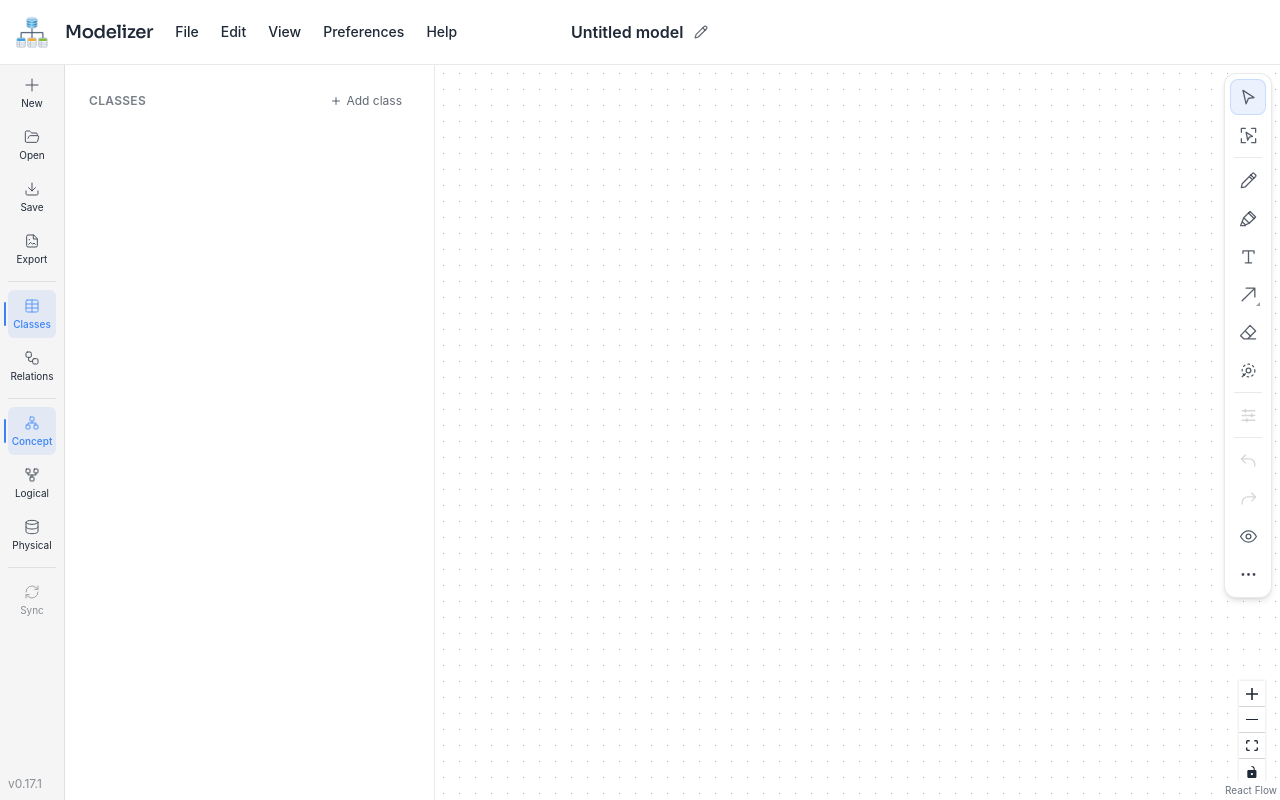
Scenario: annotation editor integration › surfaces export errors and ignores a preview completed after closing it
What coordinates should you click on to do the following:
click the button named "More annotation actions"
I would click on:
 (1248, 574)
Its box is x1=1230 y1=556 x2=1266 y2=592.
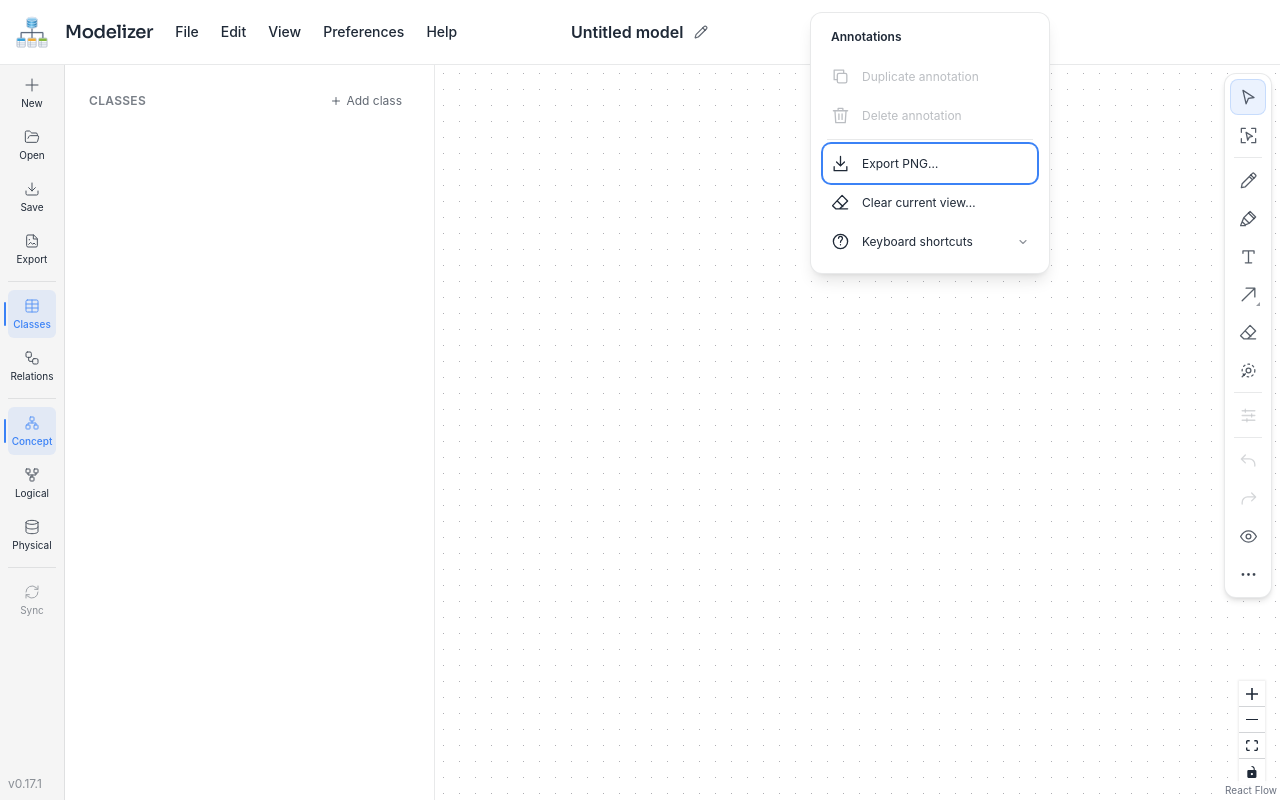
What coordinates should you click on to do the following:
click the button "Export PNG…"
I would click on:
 (930, 164)
Its box is x1=823 y1=144 x2=1037 y2=183.
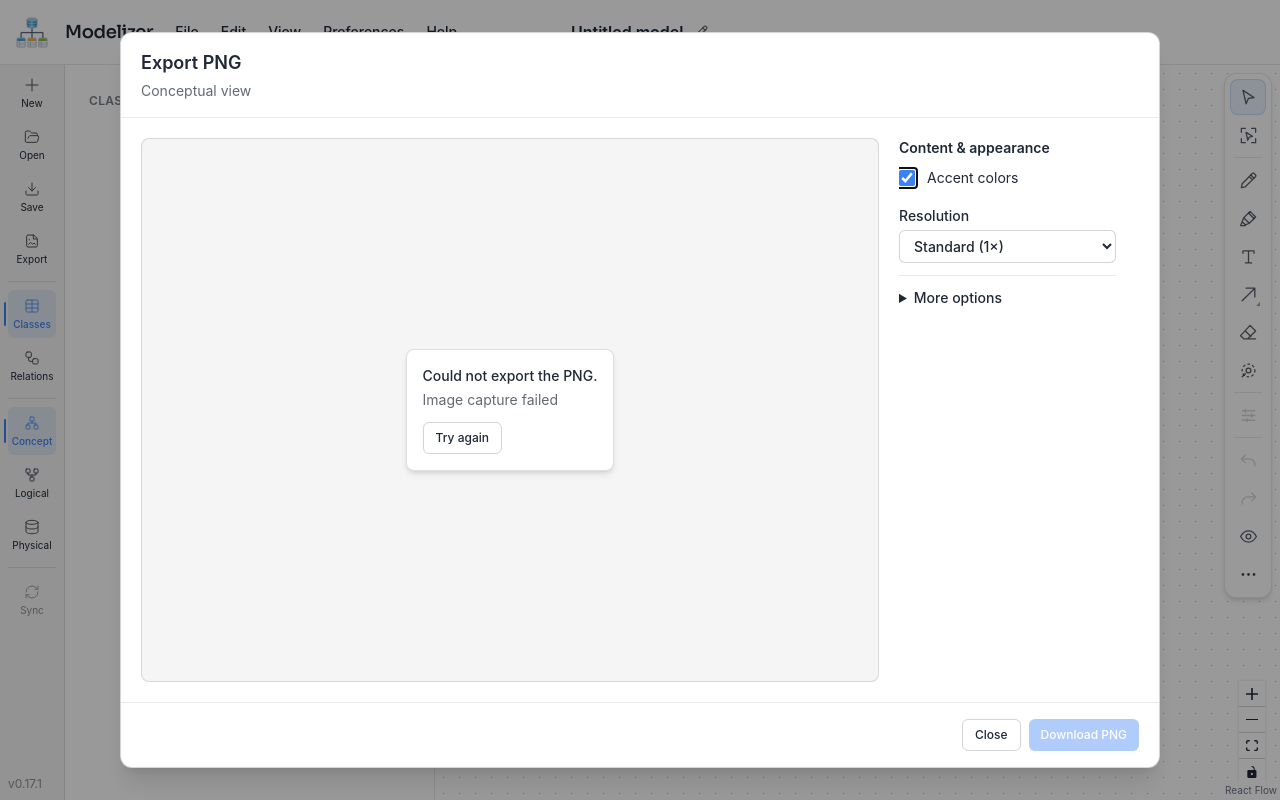
Result: the message shows "Image capture failed" at x1=423 y1=391 x2=558 y2=408
What coordinates should you click on to do the following:
click the button "Close"
I would click on:
 (991, 735)
Its box is x1=962 y1=719 x2=1021 y2=751.
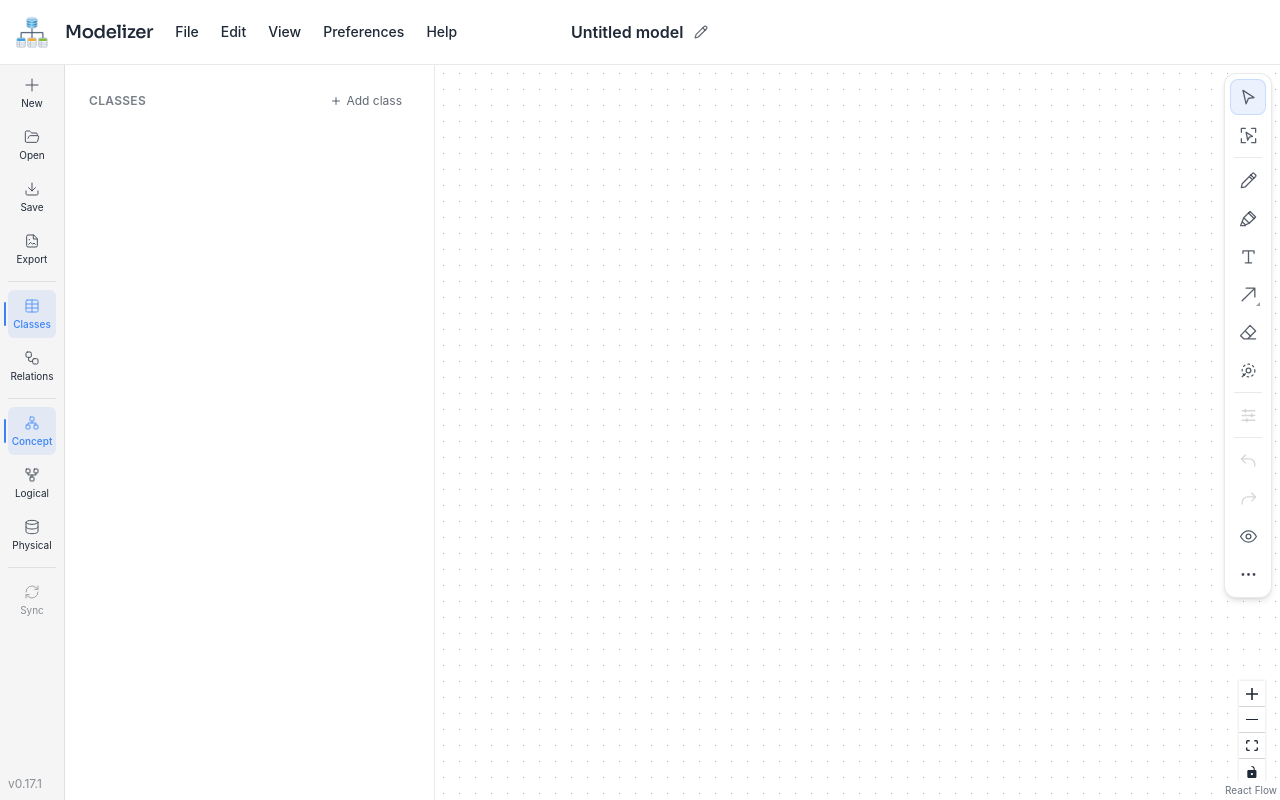
What coordinates should you click on to do the following:
click the button named "More annotation actions"
I would click on:
 (1248, 574)
Its box is x1=1230 y1=556 x2=1266 y2=592.
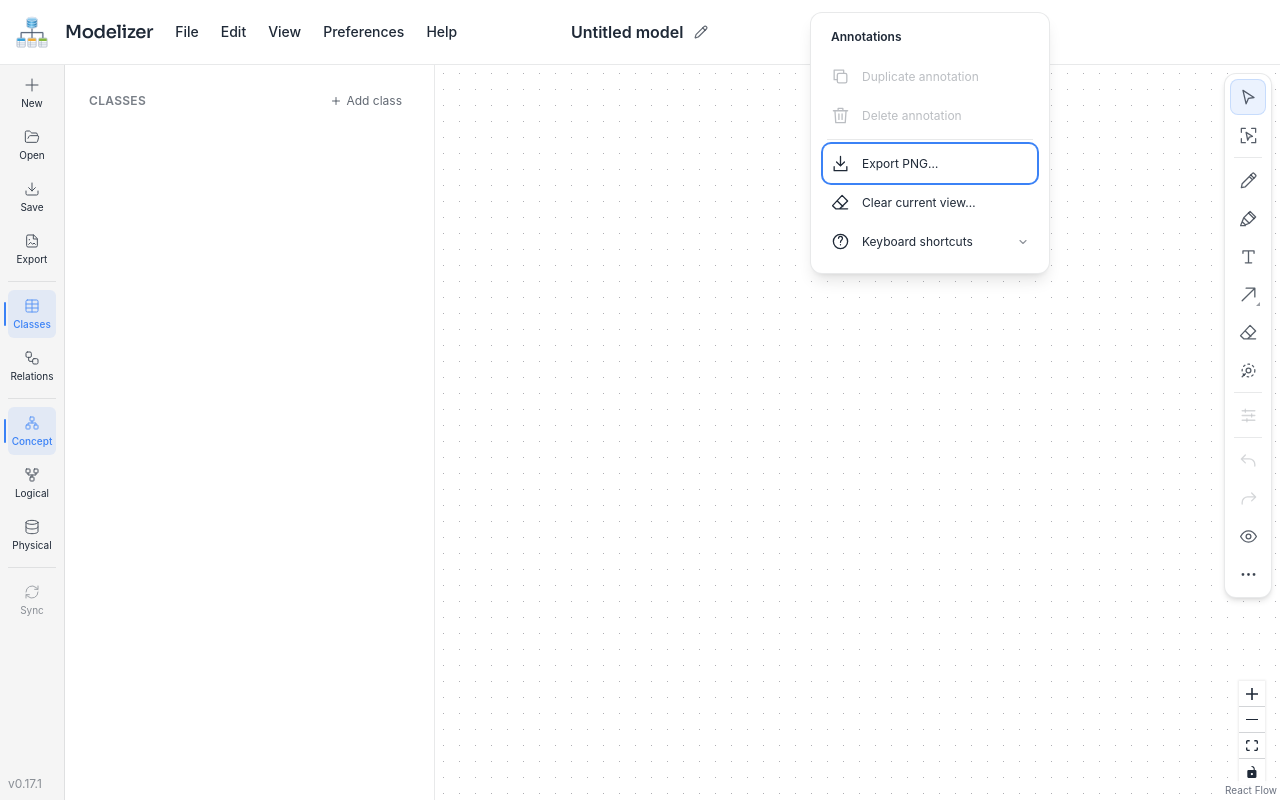
What coordinates should you click on to do the following:
click the button "Export PNG…"
I would click on:
 (930, 164)
Its box is x1=823 y1=144 x2=1037 y2=183.
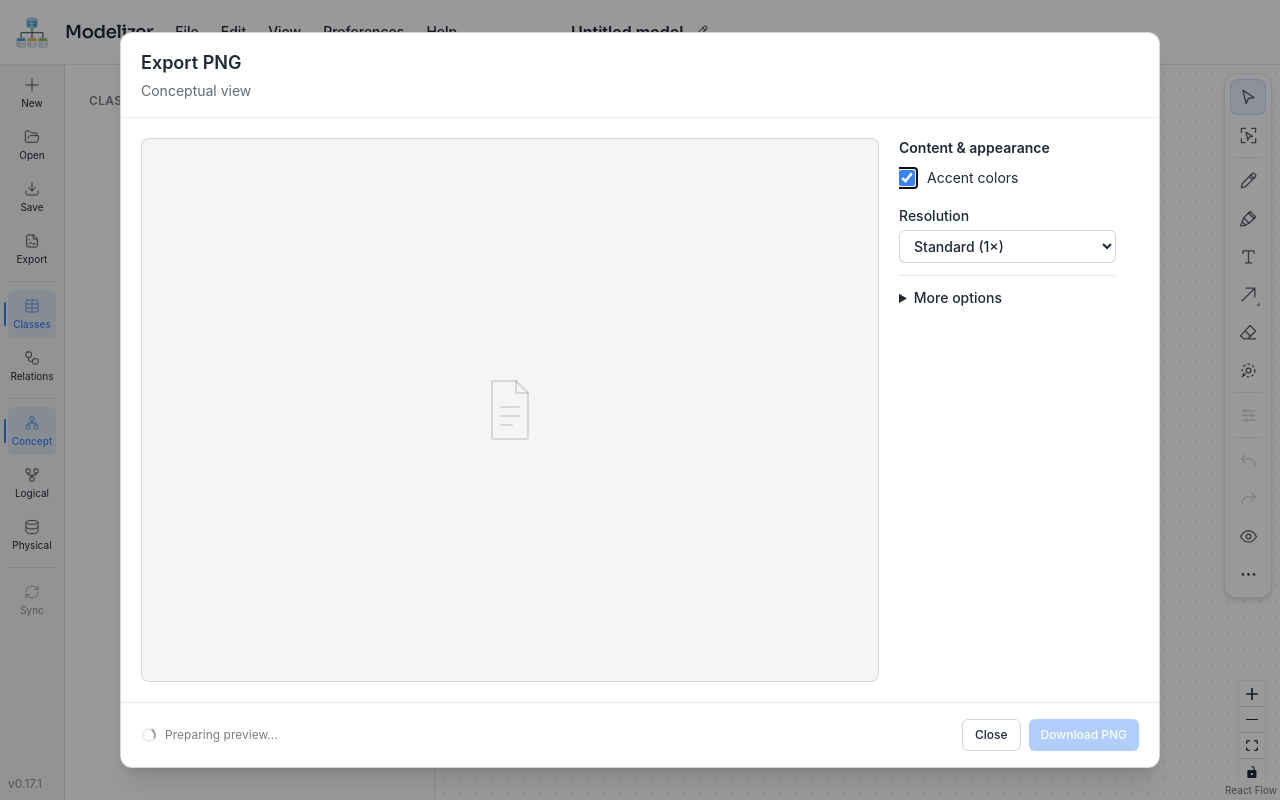
Result: the message shows "Preparing preview" at x1=165 y1=727 x2=278 y2=742
What coordinates should you click on to do the following:
click the button "Close"
I would click on:
 (991, 735)
Its box is x1=962 y1=719 x2=1021 y2=751.
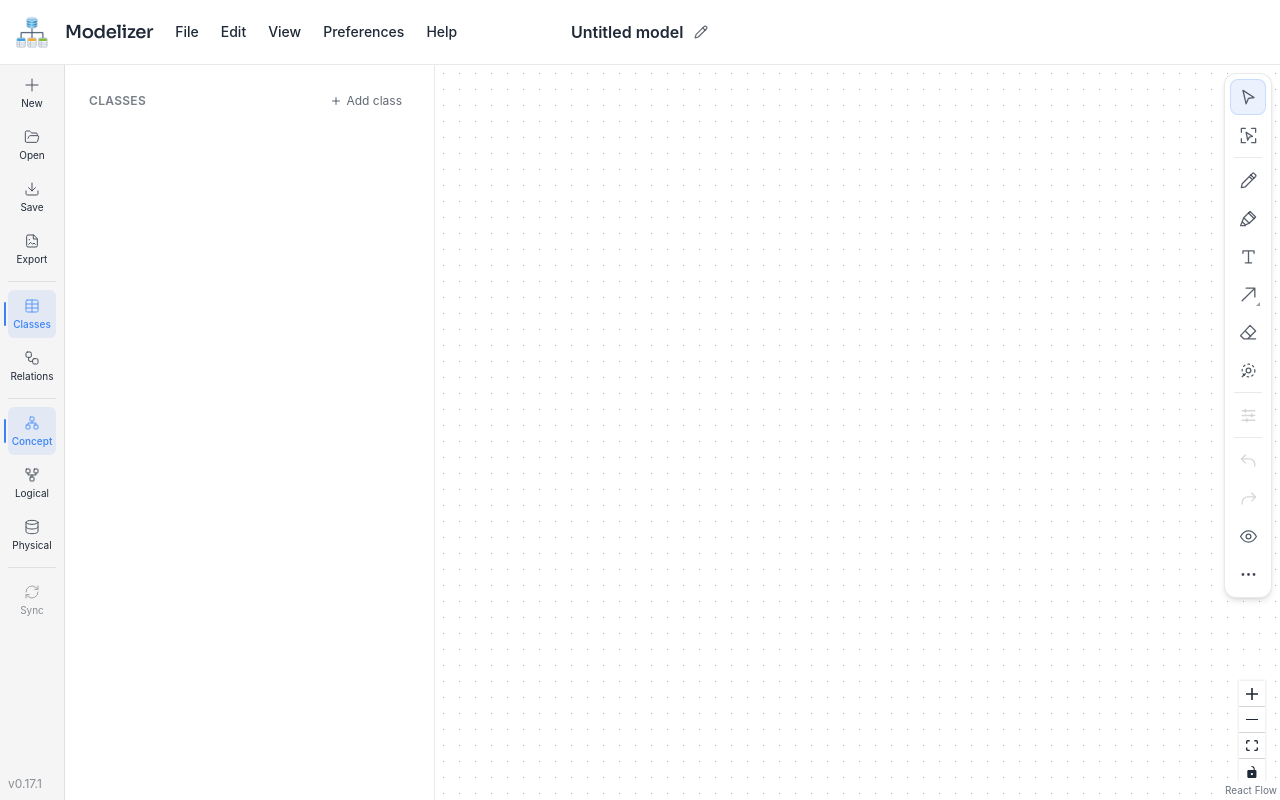
Result: the dialog is gone
